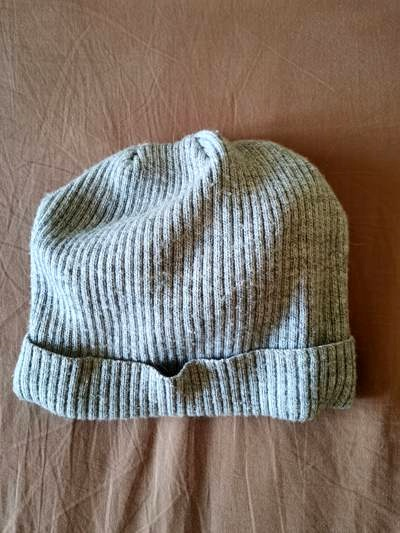Hat: (6, 133, 361, 427)
